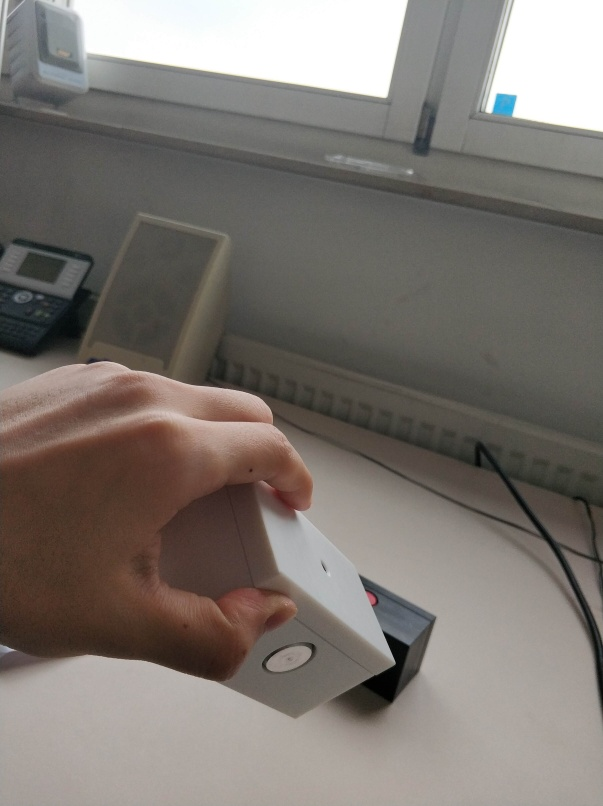black+black+red: (345, 571, 438, 716)
white+white+silver: (151, 477, 395, 721)
